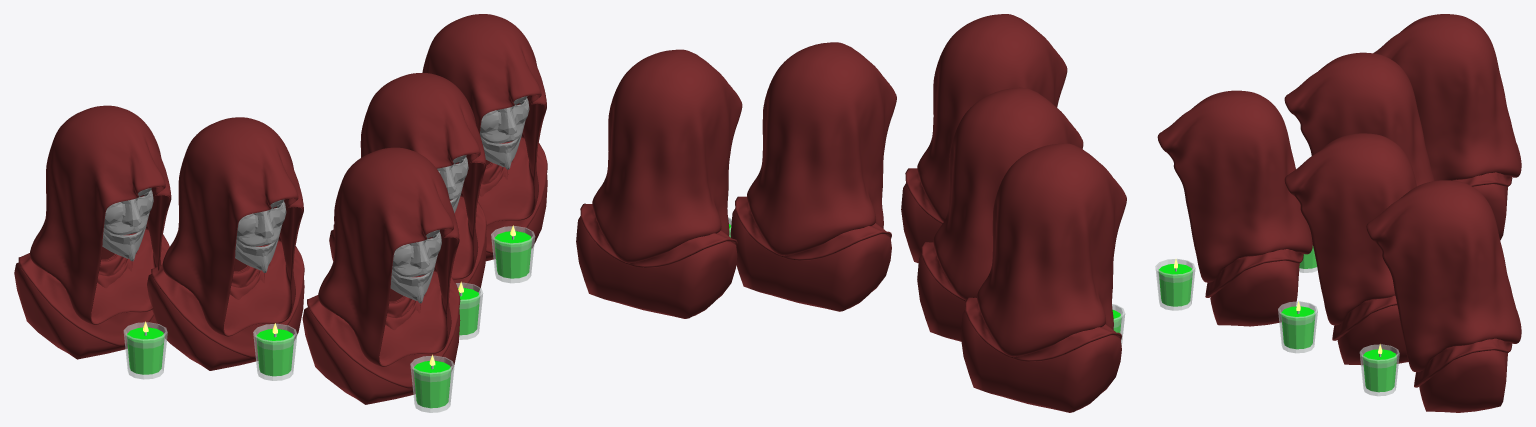
File: holyGrail_MOBILE.glb
3 renders of one model, left to right at view 1: azimuth 30°, elevation 25°; view 2: azimuth 150°, elevation 25°; view 3: azimuth 270°, elevation 25°, orthographic. The views are drawn at different scales.
Visible parts, largest first — view 1: fabric5_4_fabric5_4_0.004, fabric5_4_fabric5_4_0.008, fabric5_4_fabric5_4_0.016, fabric5_4_fabric5_4_0.020, fabric5_4_fabric5_4_0.012, fabric5_4_fabric5_4_0.003, fabric5_4_fabric5_4_0.007, fabric5_4_fabric5_4_0.002, fabric5_4_fabric5_4_0.015, fabric5_4_fabric5_4_0.006, fabric5_4_fabric5_4_0.014, Mesh1 Model.001 (+18 smaller); view 2: fabric5_4_fabric5_4_0.020, fabric5_4_fabric5_4_0.016, fabric5_4_fabric5_4_0.012, fabric5_4_fabric5_4_0.008, fabric5_4_fabric5_4_0.004, fabric5_4_fabric5_4_0.018, fabric5_4_fabric5_4_0.014, fabric5_4_fabric5_4_0.010, fabric5_4_fabric5_4_0.006, fabric5_4_fabric5_4_0.019, fabric5_4_fabric5_4_0.011, fabric5_4_fabric5_4_0.015 (+3 smaller); view 3: fabric5_4_fabric5_4_0.020, fabric5_4_fabric5_4_0.004, fabric5_4_fabric5_4_0.016, fabric5_4_fabric5_4_0.012, fabric5_4_fabric5_4_0.008, fabric5_4_fabric5_4_0.002, fabric5_4_fabric5_4_0.018, fabric5_4_fabric5_4_0.010, glass.003, glass.002, glass, fabric5_4_fabric5_4_0.019 (+7 smaller).
Part boxes in pixels (x1,y1,x2,y2): fabric5_4_fabric5_4_0.004: (318, 147, 459, 366); fabric5_4_fabric5_4_0.008: (162, 117, 303, 336); fabric5_4_fabric5_4_0.016: (30, 105, 171, 324); fabric5_4_fabric5_4_0.020: (422, 14, 546, 225); fabric5_4_fabric5_4_0.012: (360, 73, 486, 279); fabric5_4_fabric5_4_0.003: (307, 271, 460, 388); fabric5_4_fabric5_4_0.007: (151, 241, 304, 357); fabric5_4_fabric5_4_0.002: (302, 307, 460, 404); fabric5_4_fabric5_4_0.015: (18, 229, 169, 346); fabric5_4_fabric5_4_0.006: (147, 265, 304, 370); fabric5_4_fabric5_4_0.014: (14, 262, 157, 359); Mesh1 Model.001: (235, 199, 286, 272); fabric5_4_fabric5_4_0.020: (592, 49, 742, 263); fabric5_4_fabric5_4_0.016: (977, 143, 1126, 357); fabric5_4_fabric5_4_0.012: (747, 42, 896, 255); fabric5_4_fabric5_4_0.008: (933, 87, 1083, 300); fabric5_4_fabric5_4_0.004: (917, 14, 1067, 221); fabric5_4_fabric5_4_0.018: (576, 216, 737, 318); fabric5_4_fabric5_4_0.014: (960, 309, 1121, 412); fabric5_4_fabric5_4_0.010: (730, 208, 891, 311); fabric5_4_fabric5_4_0.006: (917, 254, 965, 341); fabric5_4_fabric5_4_0.019: (580, 203, 737, 267); fabric5_4_fabric5_4_0.011: (735, 196, 891, 260); fabric5_4_fabric5_4_0.015: (965, 297, 1121, 361); fabric5_4_fabric5_4_0.020: (1366, 180, 1521, 372); fabric5_4_fabric5_4_0.004: (1157, 90, 1312, 282); fabric5_4_fabric5_4_0.016: (1373, 14, 1521, 180); fabric5_4_fabric5_4_0.012: (1284, 133, 1416, 325); fabric5_4_fabric5_4_0.008: (1284, 52, 1434, 186); fabric5_4_fabric5_4_0.002: (1210, 260, 1299, 326); fabric5_4_fabric5_4_0.018: (1419, 350, 1507, 412); fabric5_4_fabric5_4_0.010: (1337, 305, 1408, 364); glass.003: (1359, 344, 1399, 396); glass.002: (1278, 301, 1317, 353); glass: (1155, 259, 1195, 310); fabric5_4_fabric5_4_0.019: (1414, 338, 1512, 387).
Size of the model in its own units: 78.54 by 34.07 by 53.17.
